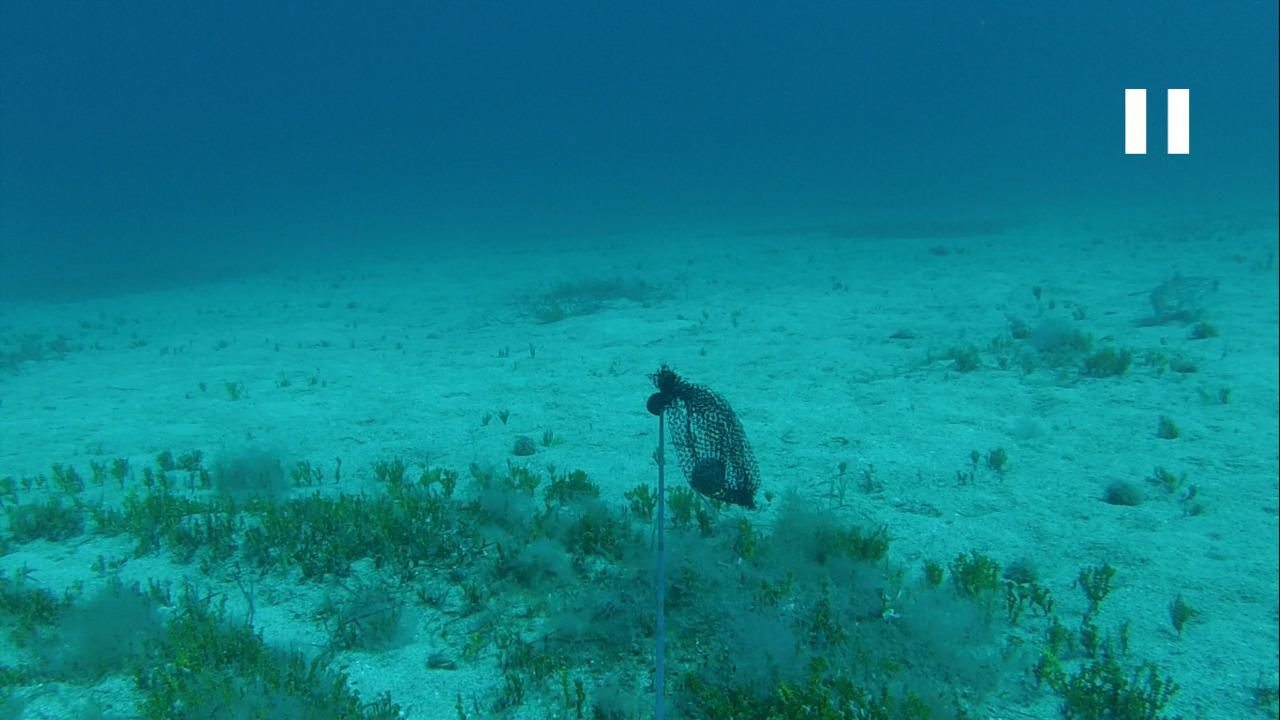dactylopterus: (1140, 263, 1235, 324)
